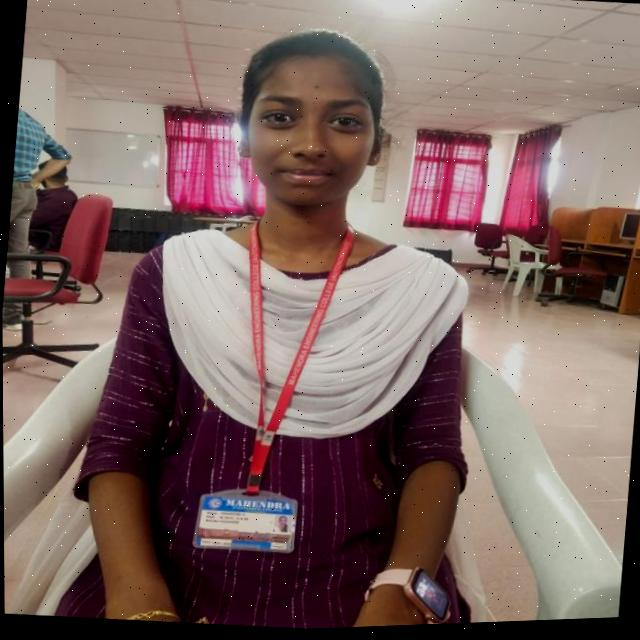id_card: (182, 206, 371, 582)
